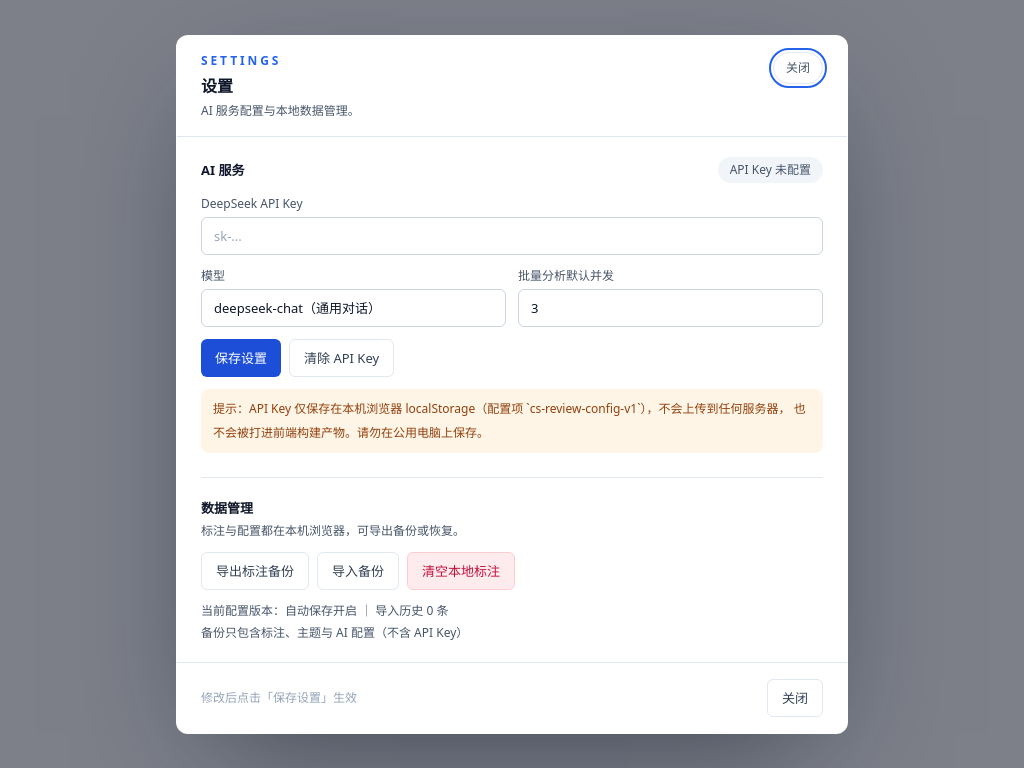
SettingsPanel 补充 · API Key 状态徽标 › 初始未配置 → 输入任意字符实时变「已配置」→ 清空后回「未配置」
Expected: the text "API Key 未配置" is shown, [718, 156, 823, 182]
Type "s" into the password field labelled "DeepSeek API Key" at (512, 236), box [201, 216, 823, 254]
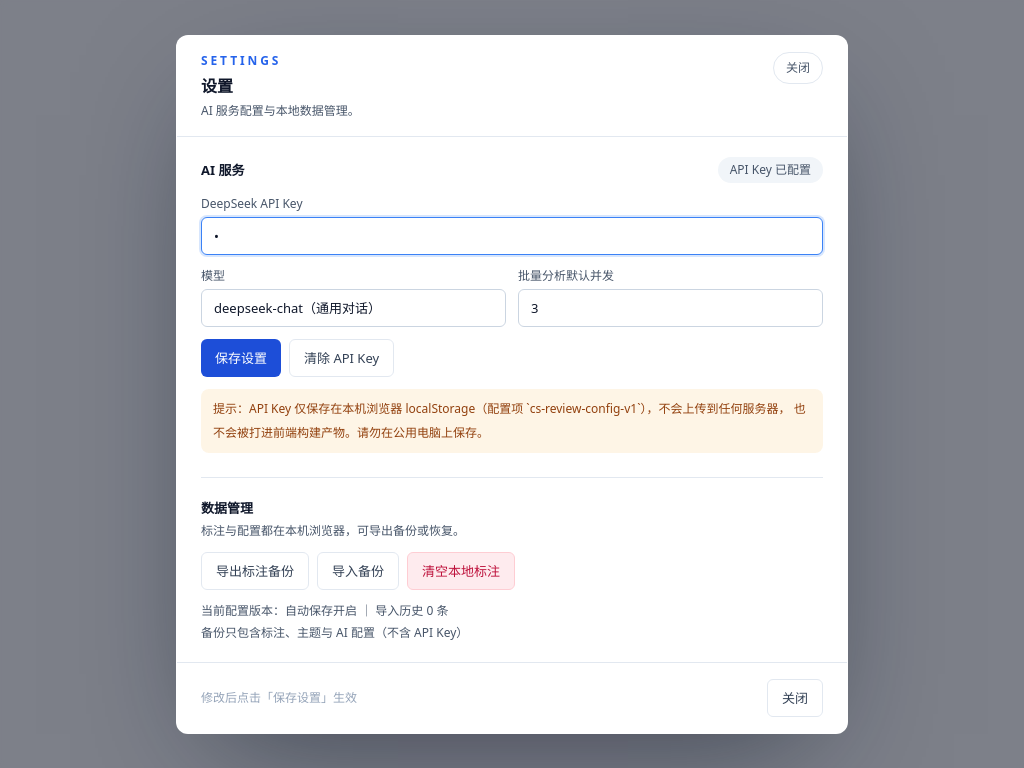
Result: the text "API Key 已配置" is shown at [718, 156, 823, 182]
Result: the text "API Key 未配置" is gone
Clear the password field labelled "DeepSeek API Key" at (512, 236), box [201, 216, 823, 254]
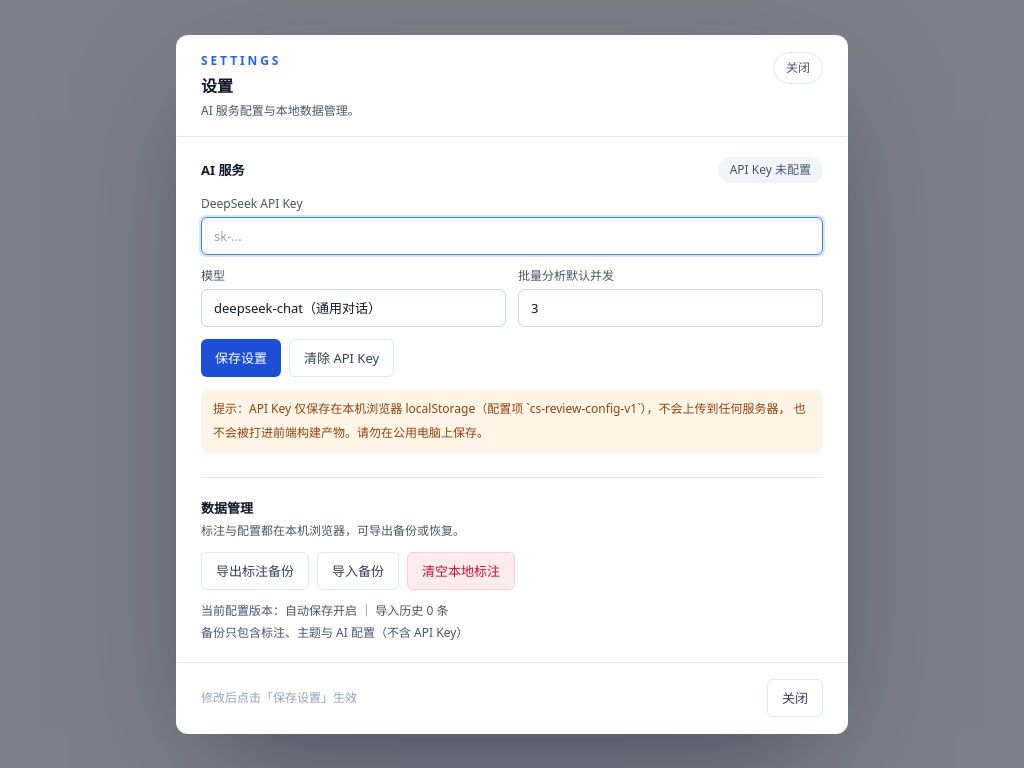
Result: the text "API Key 未配置" is shown at [718, 156, 823, 182]
